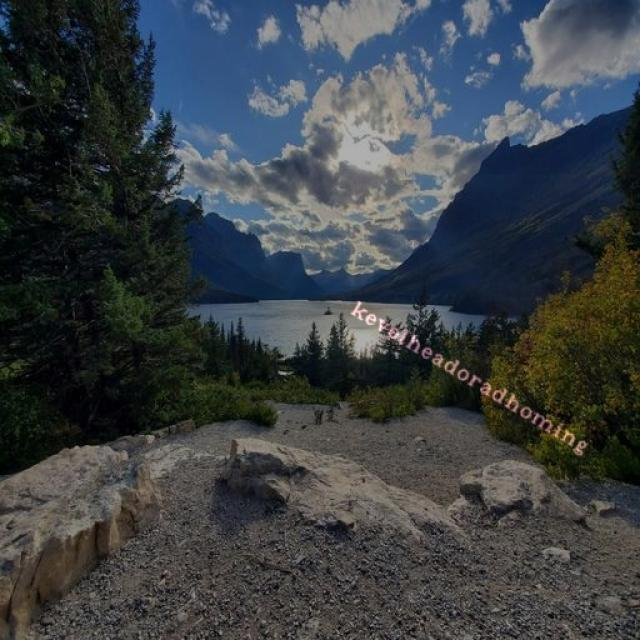watermark: (343, 295, 599, 457)
